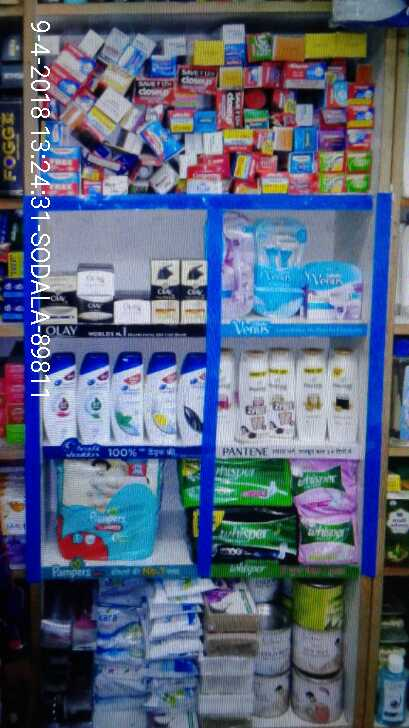venus: (253, 214, 298, 315), (310, 261, 359, 321), (223, 212, 251, 314)
